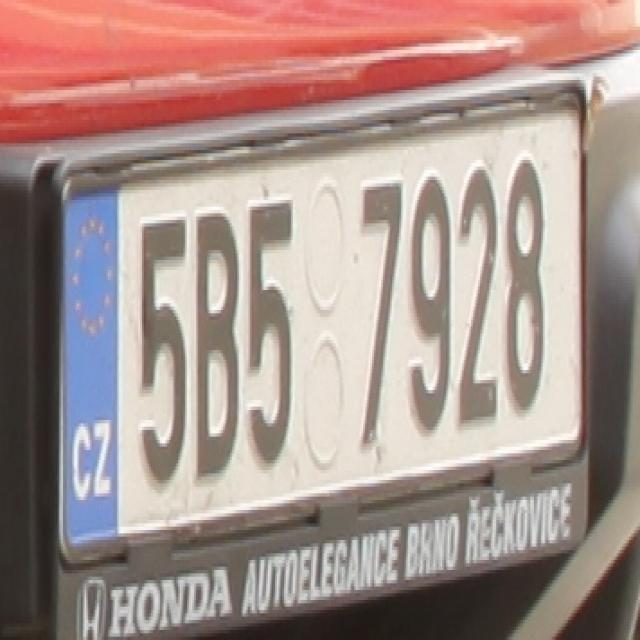2: (456, 163, 502, 427)
5: (136, 220, 188, 480), (246, 193, 293, 467)
7: (356, 180, 403, 453)
8: (507, 156, 550, 416)
9: (406, 170, 453, 433)
B: (190, 210, 240, 483)
